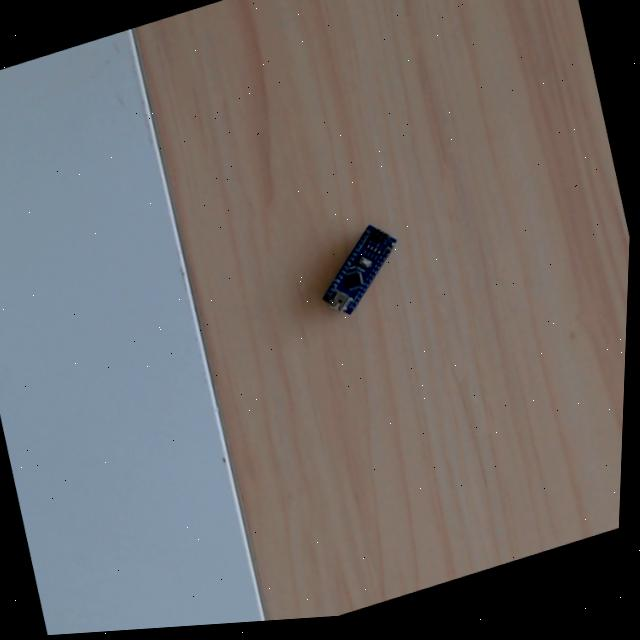Arduino-Nano: (319, 222, 398, 318)
